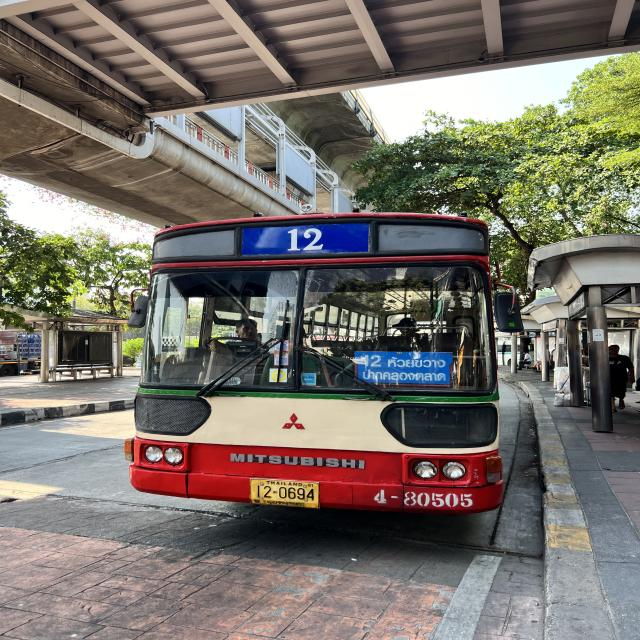BMTA-bus: (125, 211, 508, 519)
Bus-Line-Number: (238, 223, 372, 254)
Destination-Sign-Normal: (351, 351, 458, 386)
